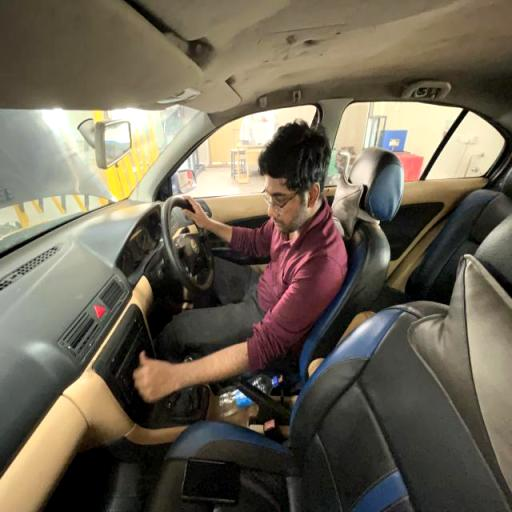operatingradio: (103, 121, 348, 407)
